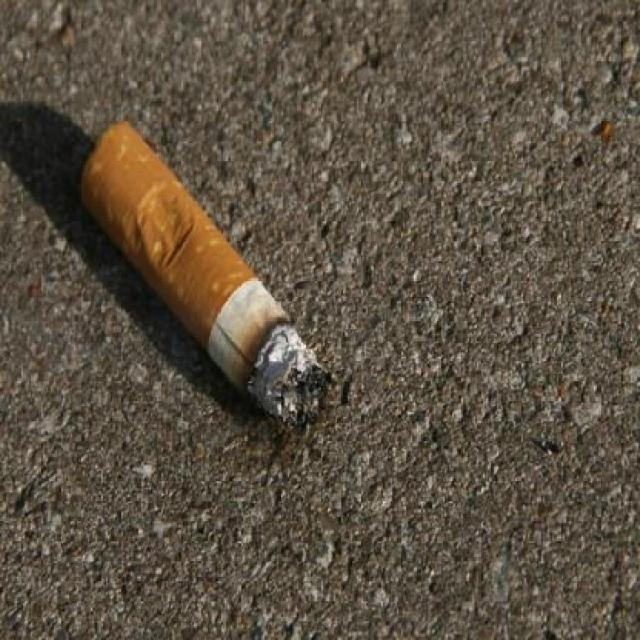cigarette: (75, 120, 380, 469)
